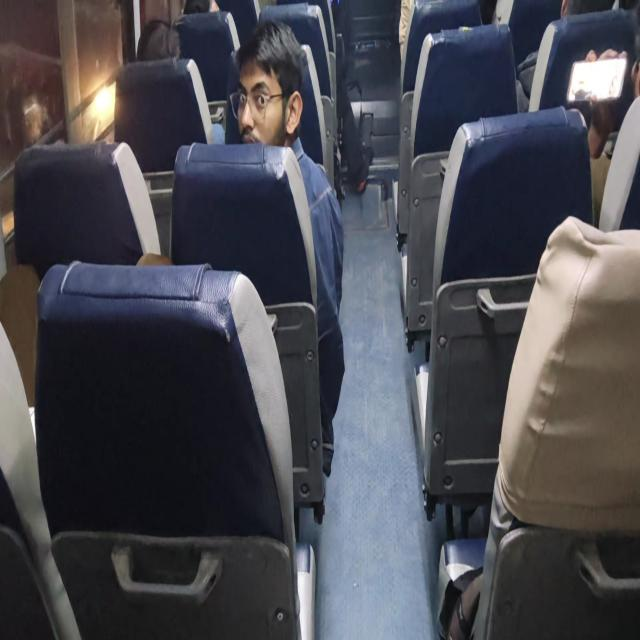person: (137, 18, 346, 522), (136, 18, 180, 61)
